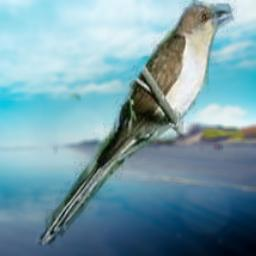Cuckoo: (35, 0, 237, 255)
